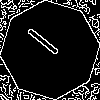I: (25, 25, 69, 64)
